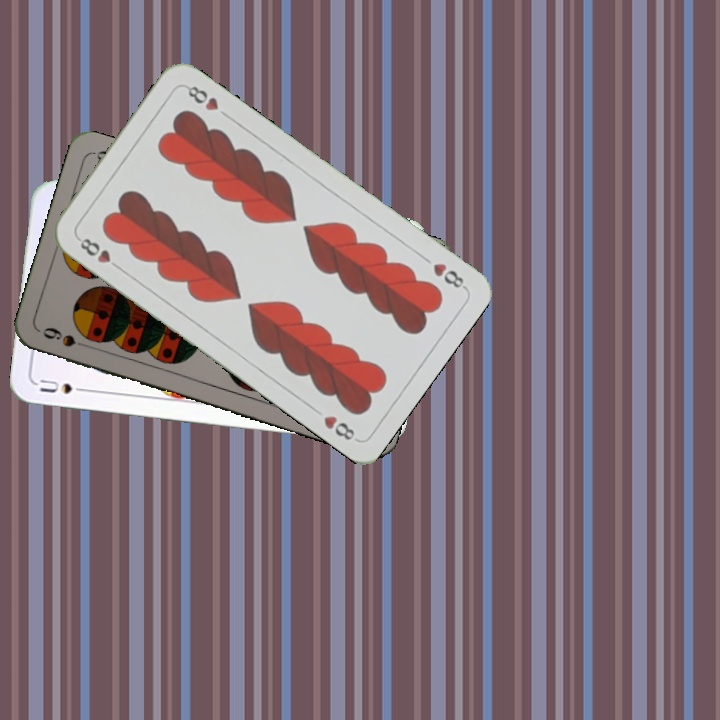H8: (73, 233, 125, 273), (429, 258, 469, 291)
S9: (39, 323, 94, 351)
SU: (35, 375, 93, 397)
